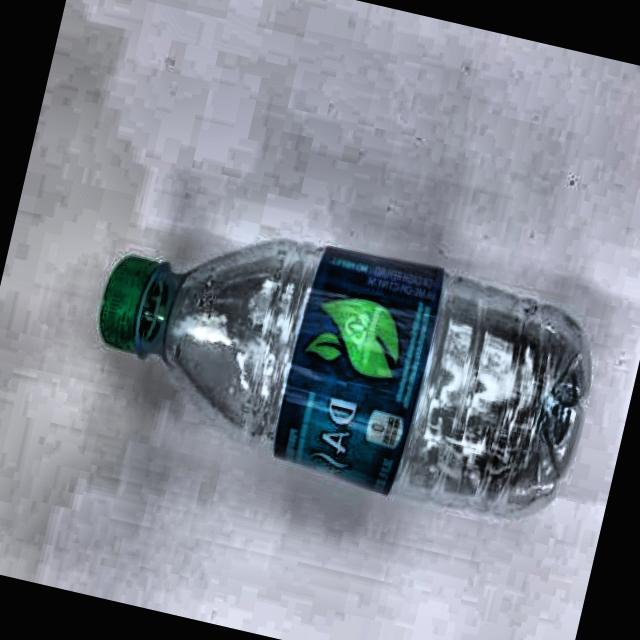plastic bottle: (98, 240, 589, 516)
